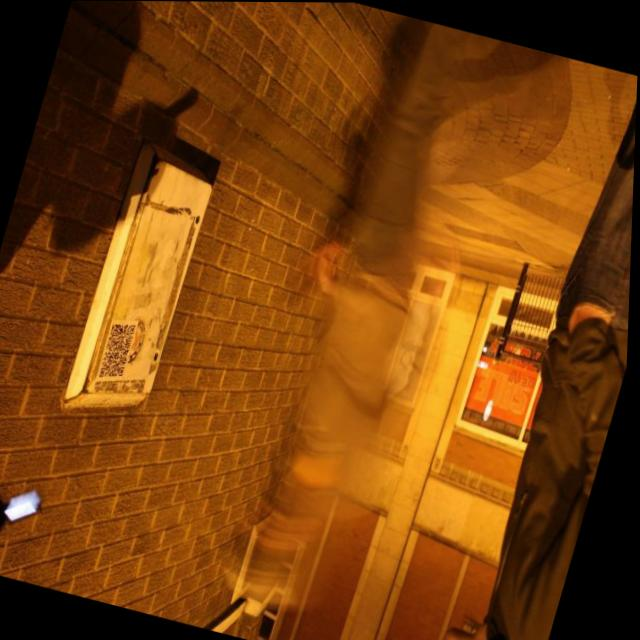qrcode: (101, 319, 139, 381)
